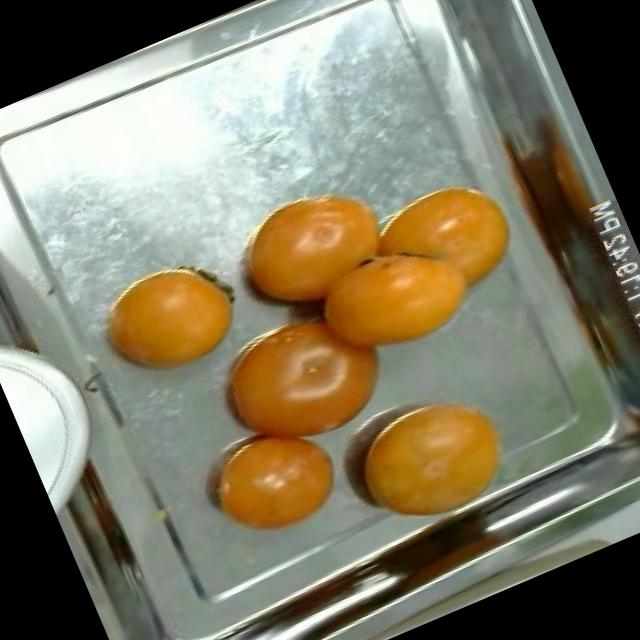Fruit: (175, 278, 423, 487), (206, 159, 419, 338), (328, 367, 534, 548), (70, 234, 266, 412), (178, 394, 367, 566), (354, 157, 542, 329)
